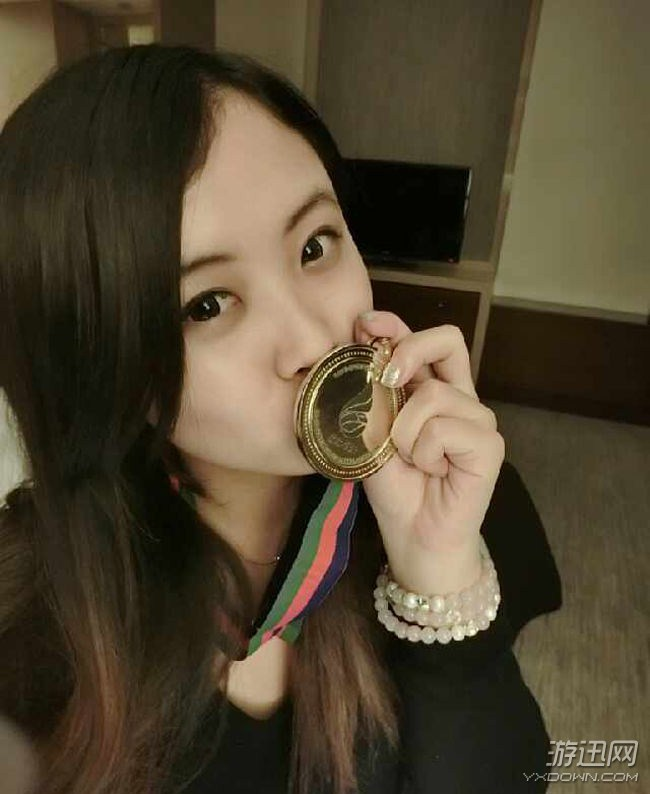face: (156, 113, 383, 472)
